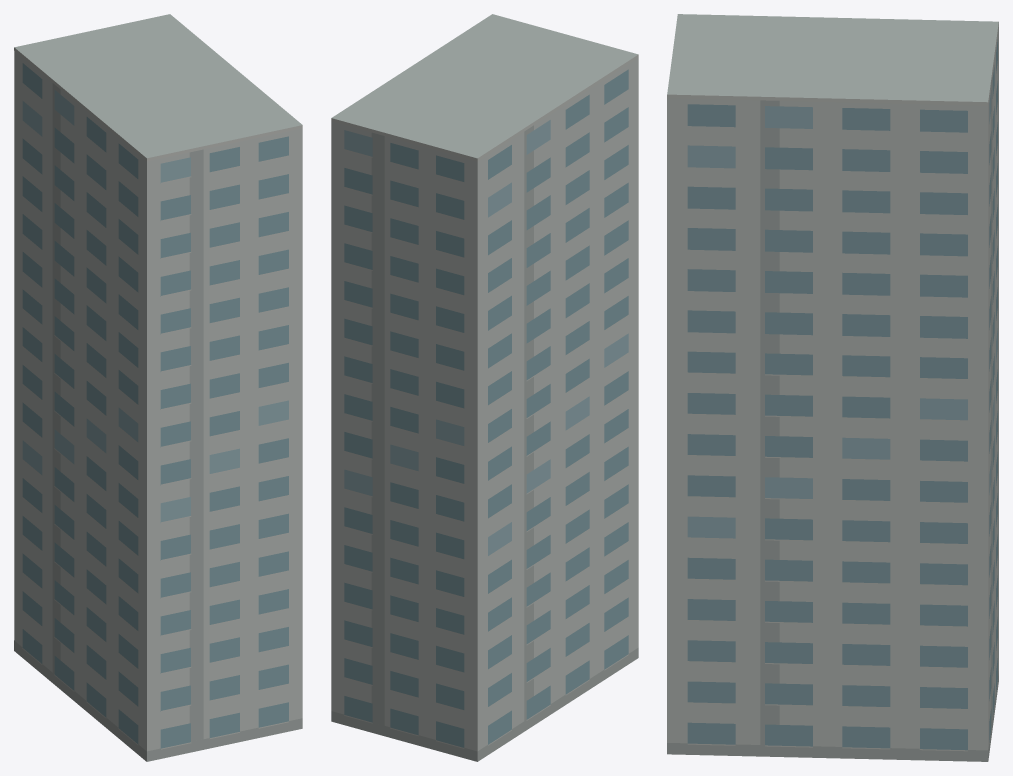
File: residential-3ec77337-cf47-4603-9e07-8cd760088a3f.glb
The picture shows the model from 3 angles, left to right: view 1: azimuth 30°, elevation 25°; view 2: azimuth 150°, elevation 25°; view 3: azimuth 270°, elevation 25°; orthographic projection. The views are drawn at different scales.
Visible parts, largest first — view 1: residential-3ec77337-cf47-4603-9e07-8cd760088a3f.tmp; view 2: residential-3ec77337-cf47-4603-9e07-8cd760088a3f.tmp; view 3: residential-3ec77337-cf47-4603-9e07-8cd760088a3f.tmp.
Part boxes in pixels (x1,y1,x2,y2): residential-3ec77337-cf47-4603-9e07-8cd760088a3f.tmp: (14,14,302,761); residential-3ec77337-cf47-4603-9e07-8cd760088a3f.tmp: (331,14,638,761); residential-3ec77337-cf47-4603-9e07-8cd760088a3f.tmp: (667,14,998,761).
Size of the model in its own units: 12.91 by 45 by 20.52.
